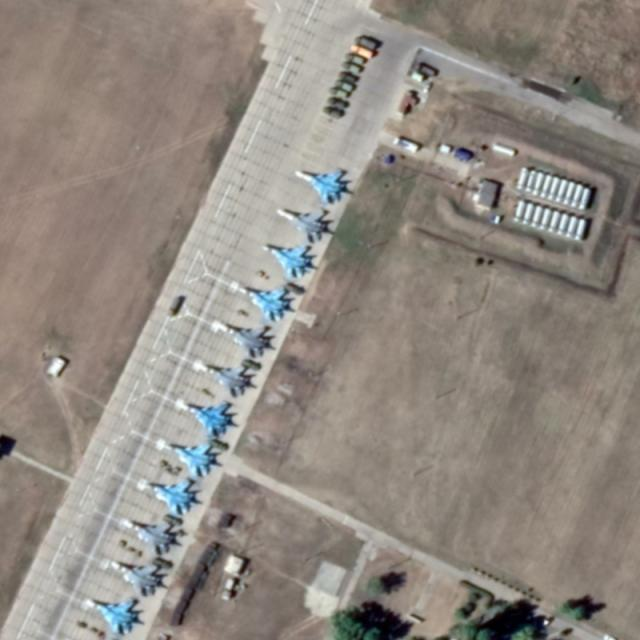fighter jet: (84, 596, 144, 634), (198, 357, 255, 396), (274, 203, 330, 241), (110, 556, 164, 595), (241, 281, 292, 322), (143, 476, 198, 514), (293, 166, 349, 203), (181, 401, 239, 436), (260, 242, 316, 278), (165, 438, 218, 476), (126, 515, 181, 551), (220, 321, 272, 355)
